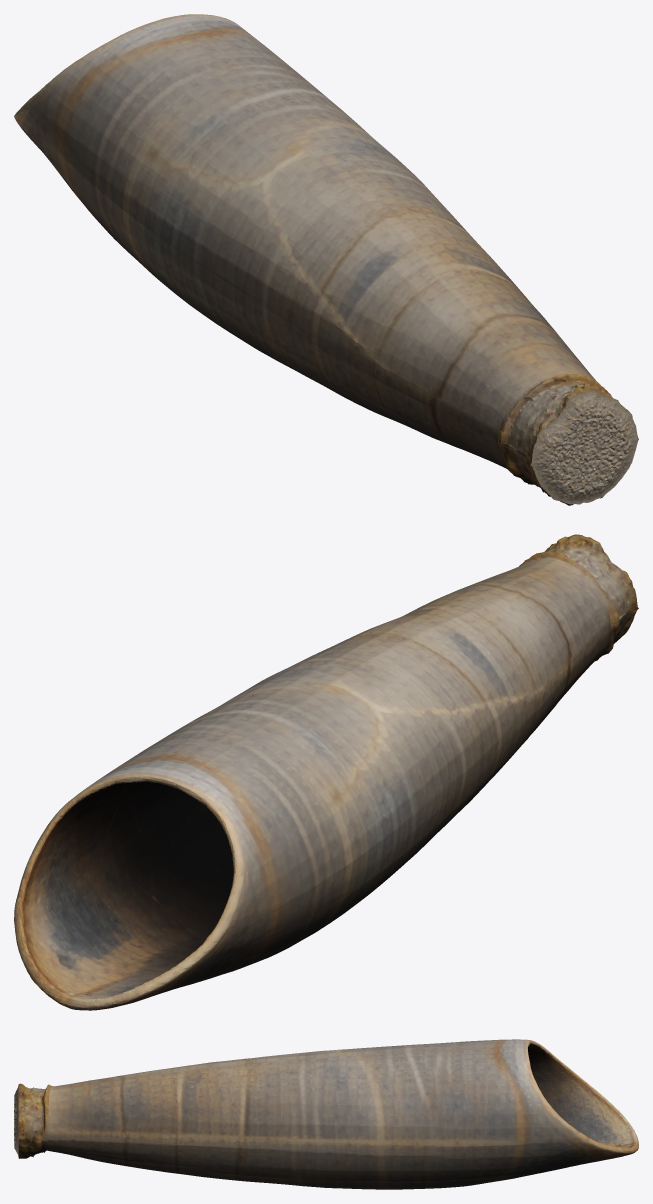
The picture shows the model from 3 angles, top to bottom: view 1: azimuth 30°, elevation 25°; view 2: azimuth 150°, elevation 25°; view 3: azimuth 270°, elevation 25°; orthographic projection. The views are drawn at different scales.
Visible parts, largest first — view 1: world; view 2: world; view 3: world.
Part boxes in pixels (x1=…): world: x1=14, y1=14, x2=638, y2=505; world: x1=14, y1=534, x2=638, y2=1010; world: x1=14, y1=1039, x2=638, y2=1189.
Bounding box in the file's own units: 0.2518 × 0.2394 × 0.9978.
Materials: 1 (1 with a texture image).
